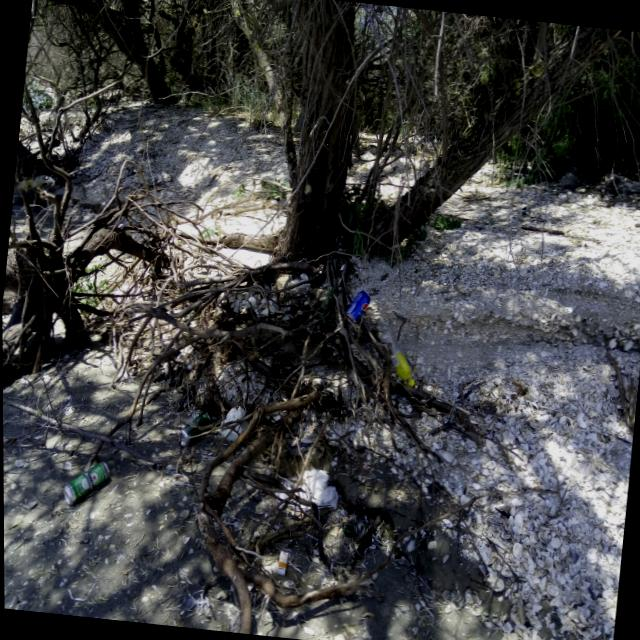Can-Metal: (60, 452, 115, 510), (341, 286, 377, 328)
Cardboard: (169, 403, 214, 456), (272, 546, 295, 582)
Plastic: (371, 322, 422, 394), (213, 402, 254, 448)
Trash -everything else-: (270, 460, 345, 522)
